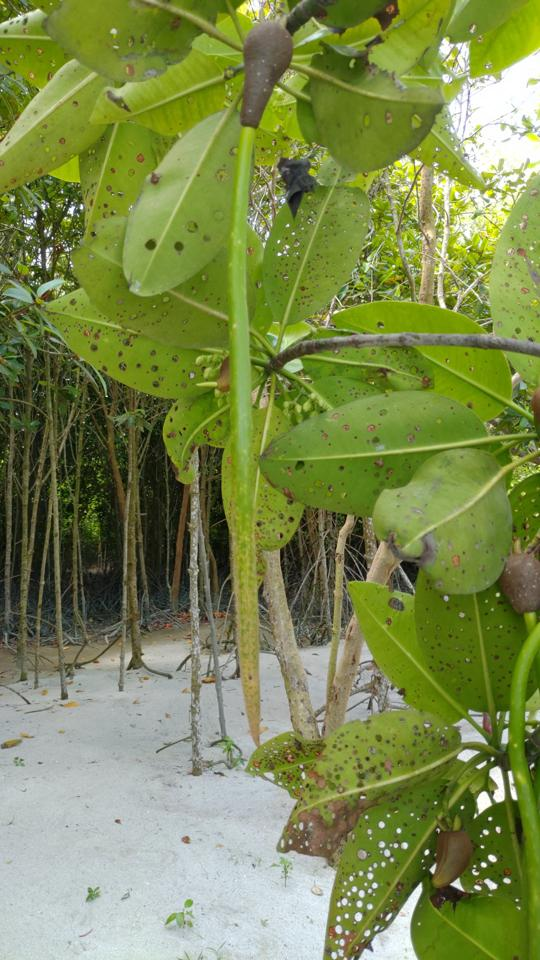mentah: (215, 6, 313, 755)
